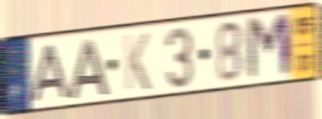3: (163, 25, 195, 91)
8: (214, 19, 244, 85)
A: (66, 37, 111, 102), (29, 42, 73, 105)
K: (121, 31, 152, 93)
M: (244, 11, 296, 85)
